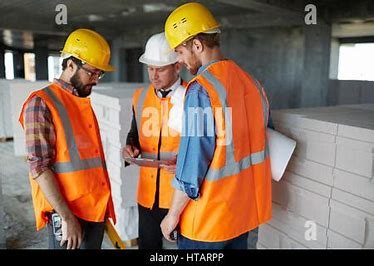Helmet: (160, 1, 232, 79), (56, 25, 118, 100), (133, 29, 185, 91)
Reflective vest: (182, 58, 274, 240), (17, 84, 122, 229), (130, 77, 187, 210)
